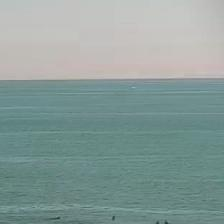surfer: (48, 216, 60, 220), (164, 220, 170, 223), (112, 216, 115, 220), (156, 221, 161, 223)
